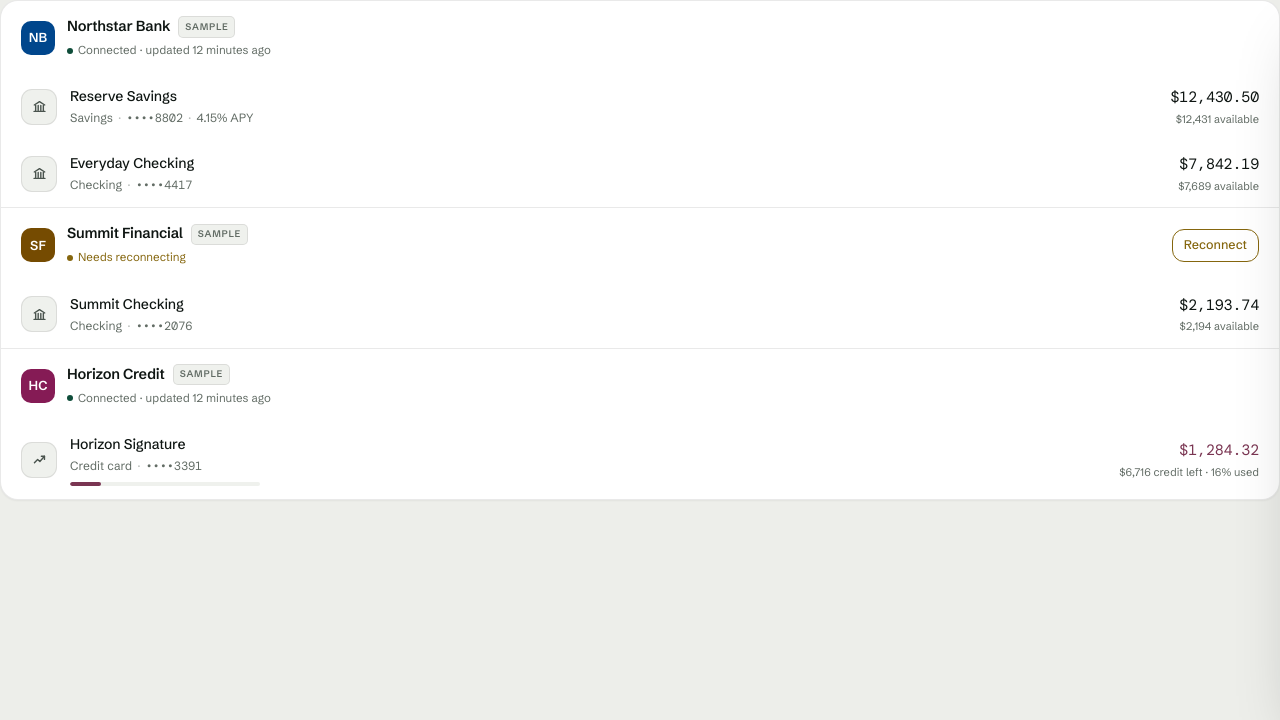
Test: AccountsView › explains reconnecting in a dialog naming the institution
Click the button "Reconnect".
click(1215, 245)  # box [1172,229,1259,262]
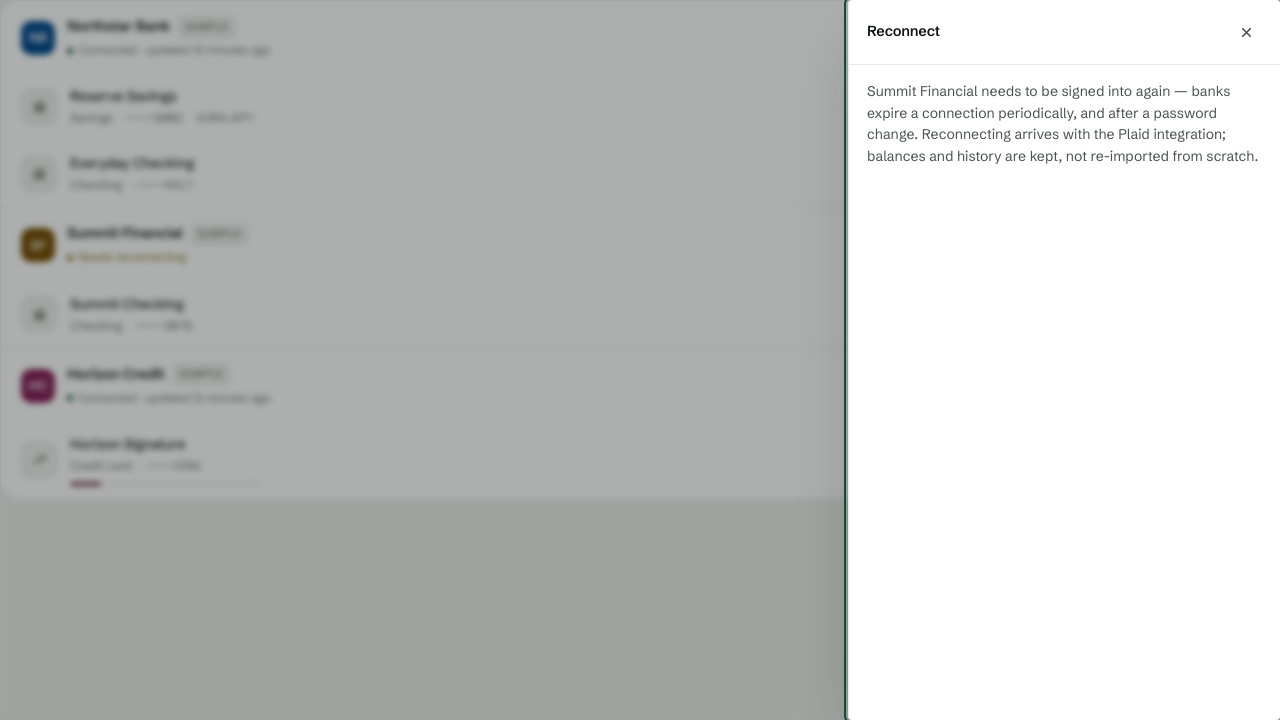
Check: the text "Summit Financial" is shown, box [867,82,978,100]
